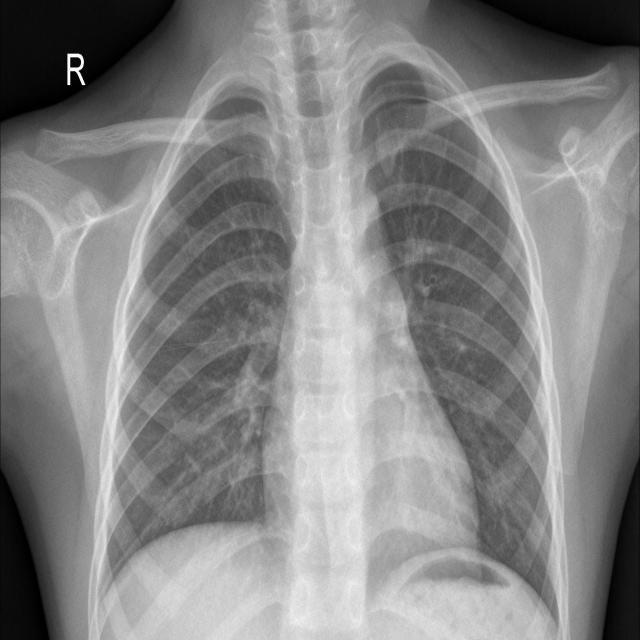no-pneumonia: (360, 62, 559, 617), (105, 73, 296, 580)
